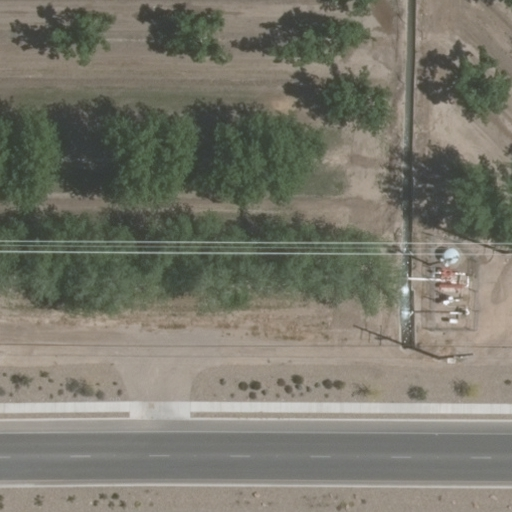DT: (434, 345, 476, 366)
